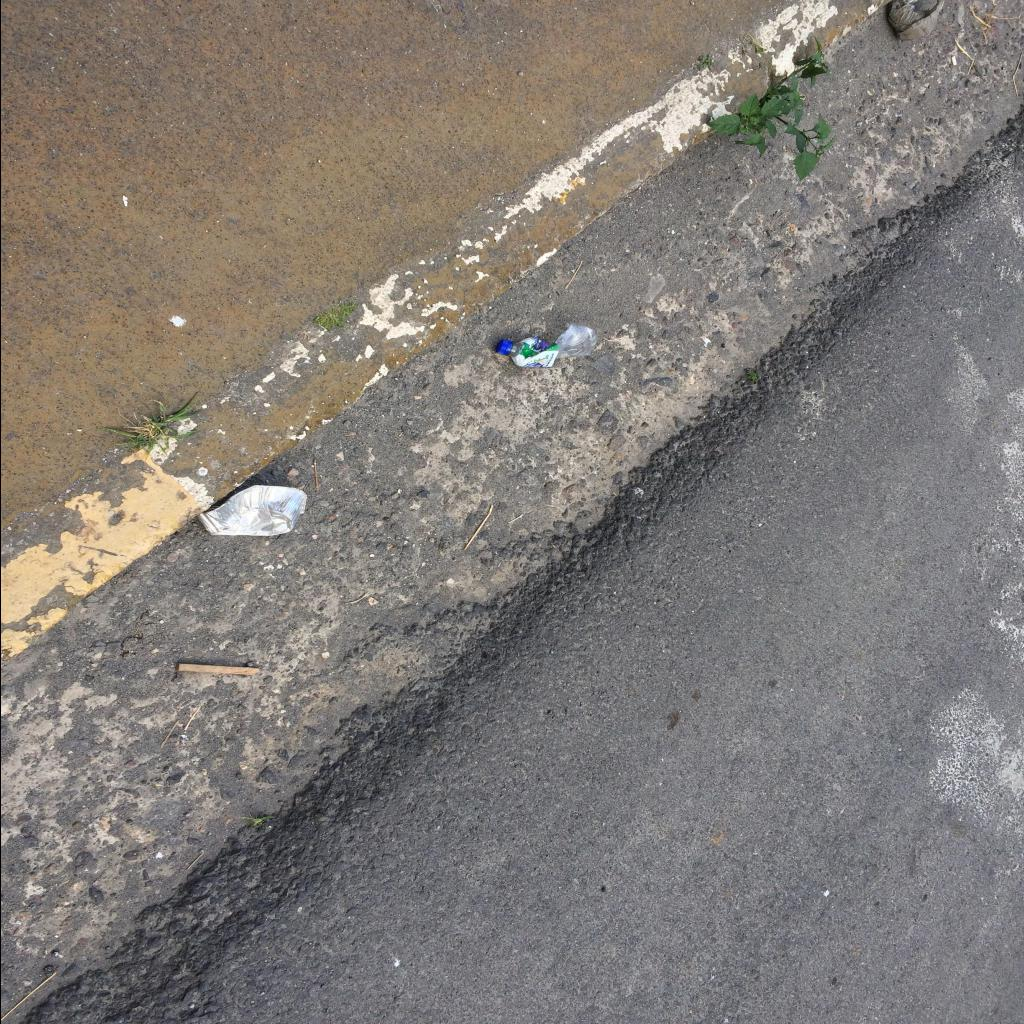Aluminium foil: (197, 486, 307, 536)
Cigarette: (950, 56, 958, 66)
Clear plastic bottle: (495, 323, 596, 367)
Plastic bottle cap: (494, 339, 508, 355)
